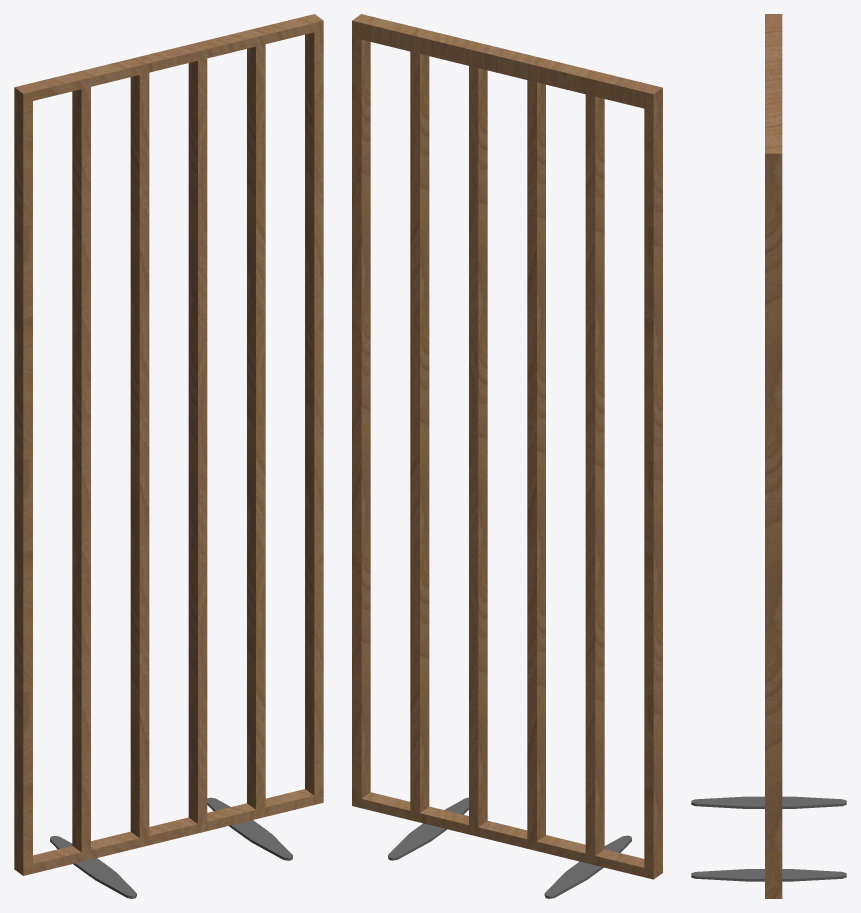
File: Woodline Panel.glb
3 renders of one model, left to right at view 1: azimuth 30°, elevation 25°; view 2: azimuth 150°, elevation 25°; view 3: azimuth 270°, elevation 25°, orthographic. The views are drawn at different scales.
Parts seen in each view (by area): view 1: Woodline Panel, toggle_feet_center.004; view 2: Woodline Panel, toggle_feet_center.004; view 3: Woodline Panel, toggle_feet_center.004, toggle_feet_edge.013.
Boxes of the visible parts, x1,y1,x2,y2 form: Woodline Panel: [14, 14, 323, 875]; toggle_feet_center.004: [50, 797, 288, 893]; Woodline Panel: [352, 14, 662, 879]; toggle_feet_center.004: [388, 800, 627, 898]; Woodline Panel: [765, 14, 782, 898]; toggle_feet_center.004: [699, 796, 846, 881]; toggle_feet_edge.013: [691, 796, 752, 881].
Size of the model in its own units: 0.9388 by 2.37 by 0.4418.
2 materials, 1 textured.
